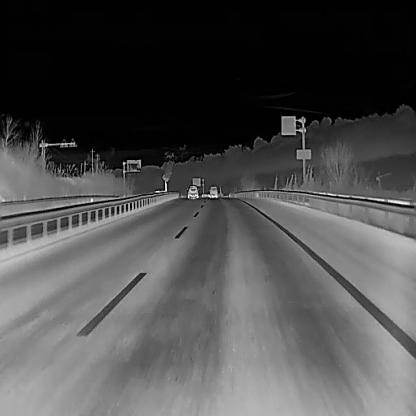car: (186, 183, 198, 199), (207, 184, 218, 198)
